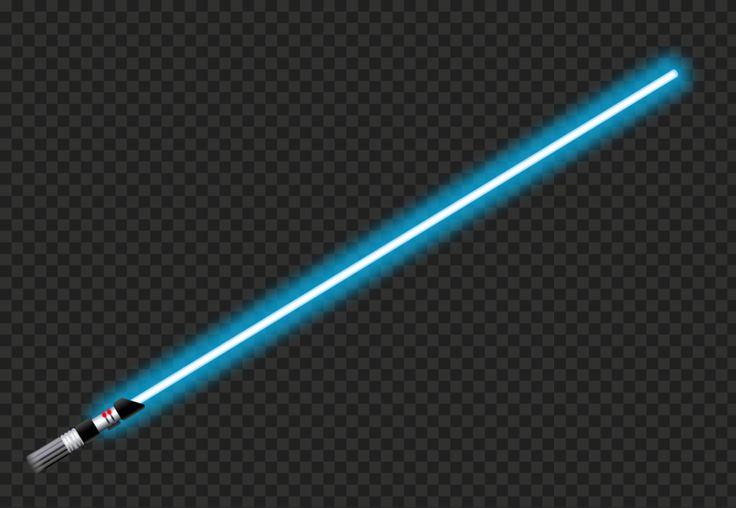lightsaber: (0, 53, 694, 508)
